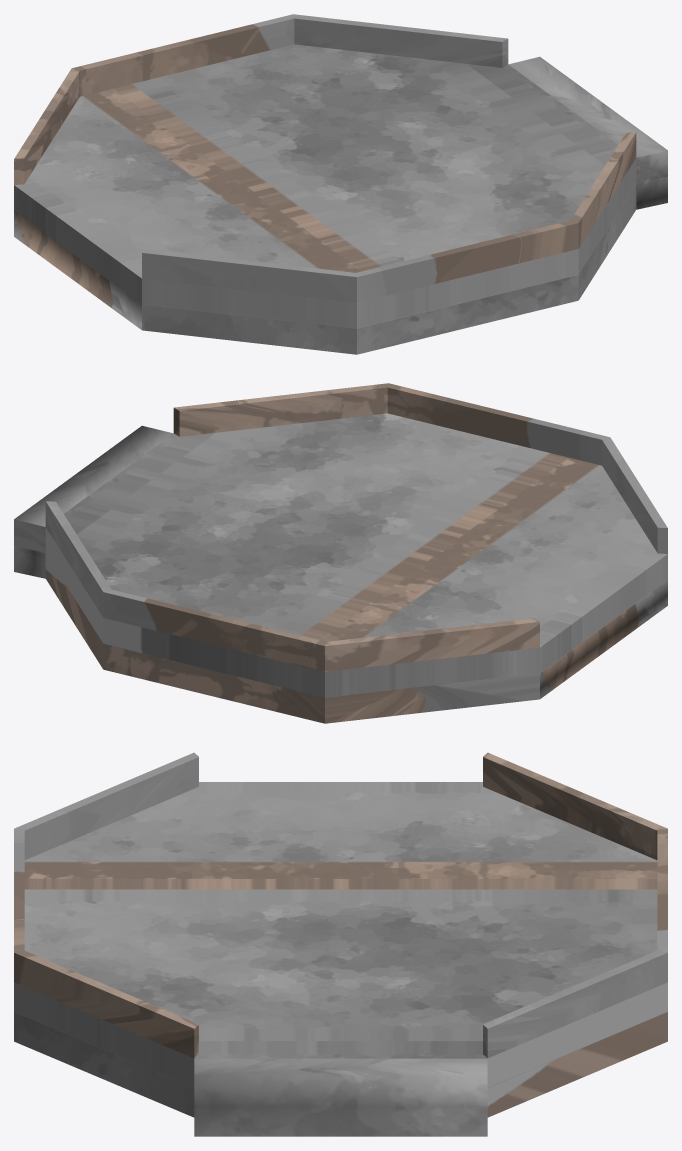
The model's file is platform_water.fbx.
3 views of the same model, one above another, from view 1: azimuth 30°, elevation 25°; view 2: azimuth 150°, elevation 25°; view 3: azimuth 270°, elevation 25° (orthographic). The views are drawn at different scales.
Parts seen in each view (by area): view 1: platform_floor_04; view 2: platform_floor_04; view 3: platform_floor_04.
Boxes of the visible parts, x1,y1,x2,y2 form: platform_floor_04: (14, 14, 667, 354); platform_floor_04: (14, 383, 667, 723); platform_floor_04: (14, 752, 667, 1136).
Bounding box in the file's own units: 21.29 × 3.03 × 20.
